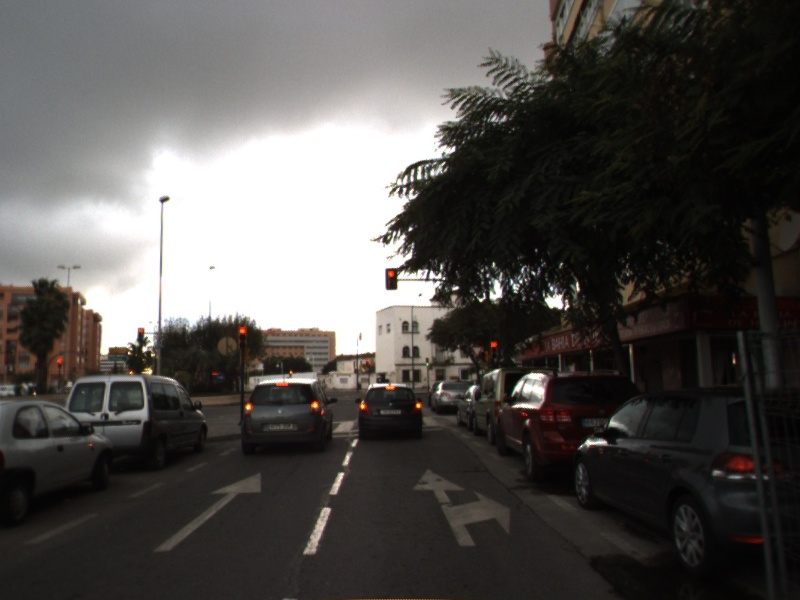STRAIGHT: (152, 471, 263, 553)
STRAIGHT_RIGHT: (411, 467, 512, 548)
